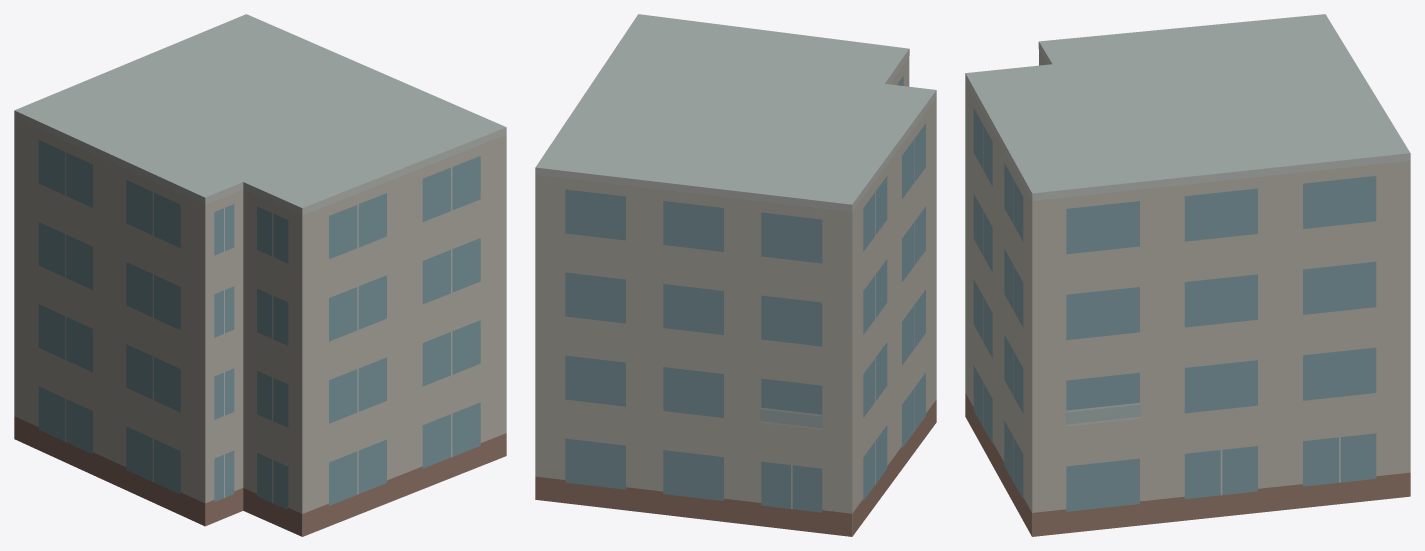
The model's file is survey-upis-32969832.glb.
3 renders of one model, left to right at view 1: azimuth 30°, elevation 25°; view 2: azimuth 150°, elevation 25°; view 3: azimuth 270°, elevation 25°, orthographic. The views are drawn at different scales.
Visible parts, largest first — view 1: survey-upis-32969832.tmp; view 2: survey-upis-32969832.tmp; view 3: survey-upis-32969832.tmp.
Part boxes in pixels (x1,y1,x2,y2): survey-upis-32969832.tmp: (14, 14, 506, 536); survey-upis-32969832.tmp: (535, 14, 936, 536); survey-upis-32969832.tmp: (965, 14, 1410, 536).
Bounding box in the file's own units: 12.34 × 11 × 12.93.
